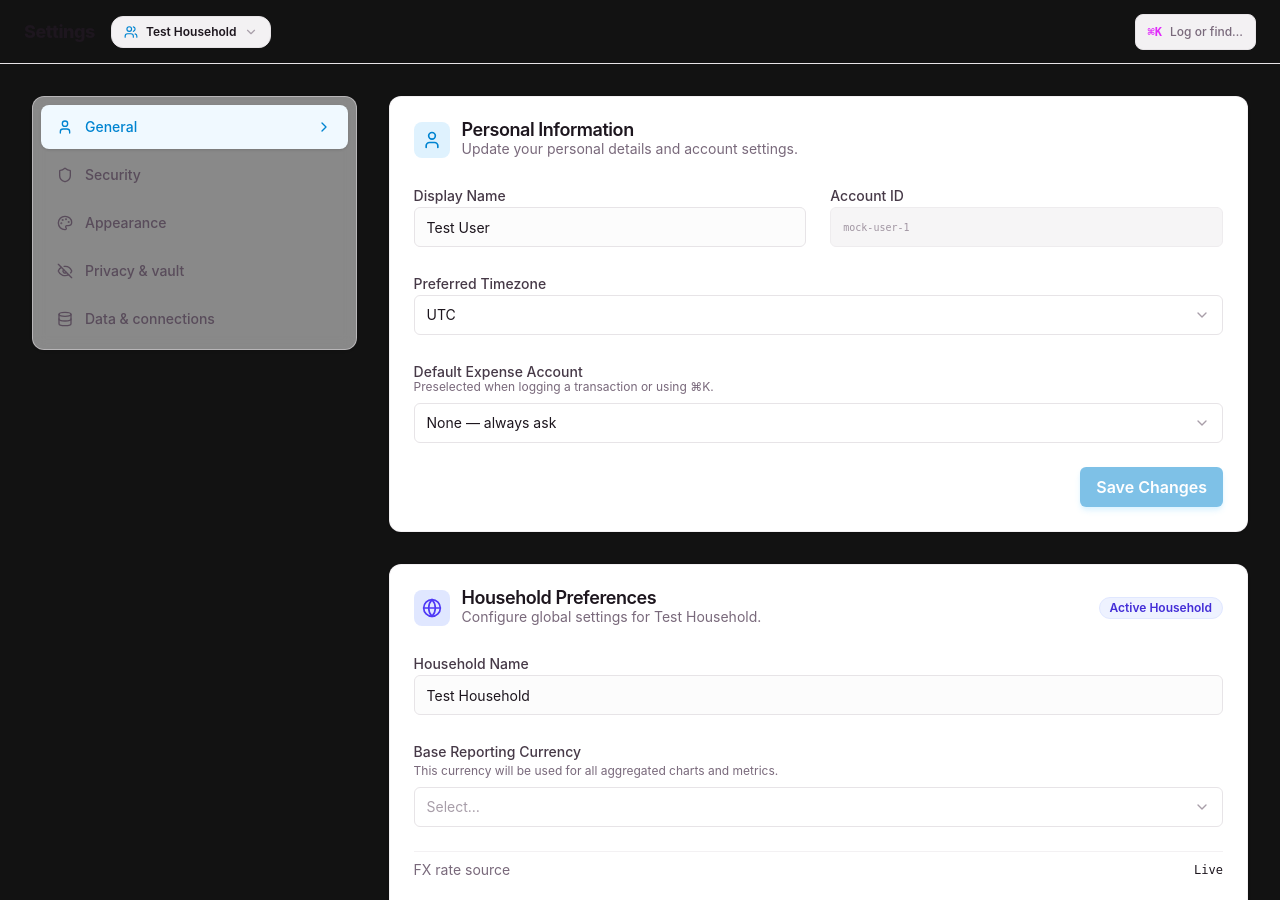
it: Settings Component Integration › shows the private vault section without a Face ID toggle
Click the button "Privacy & vault": [135, 270] box x1=41 y1=249 x2=348 y2=293
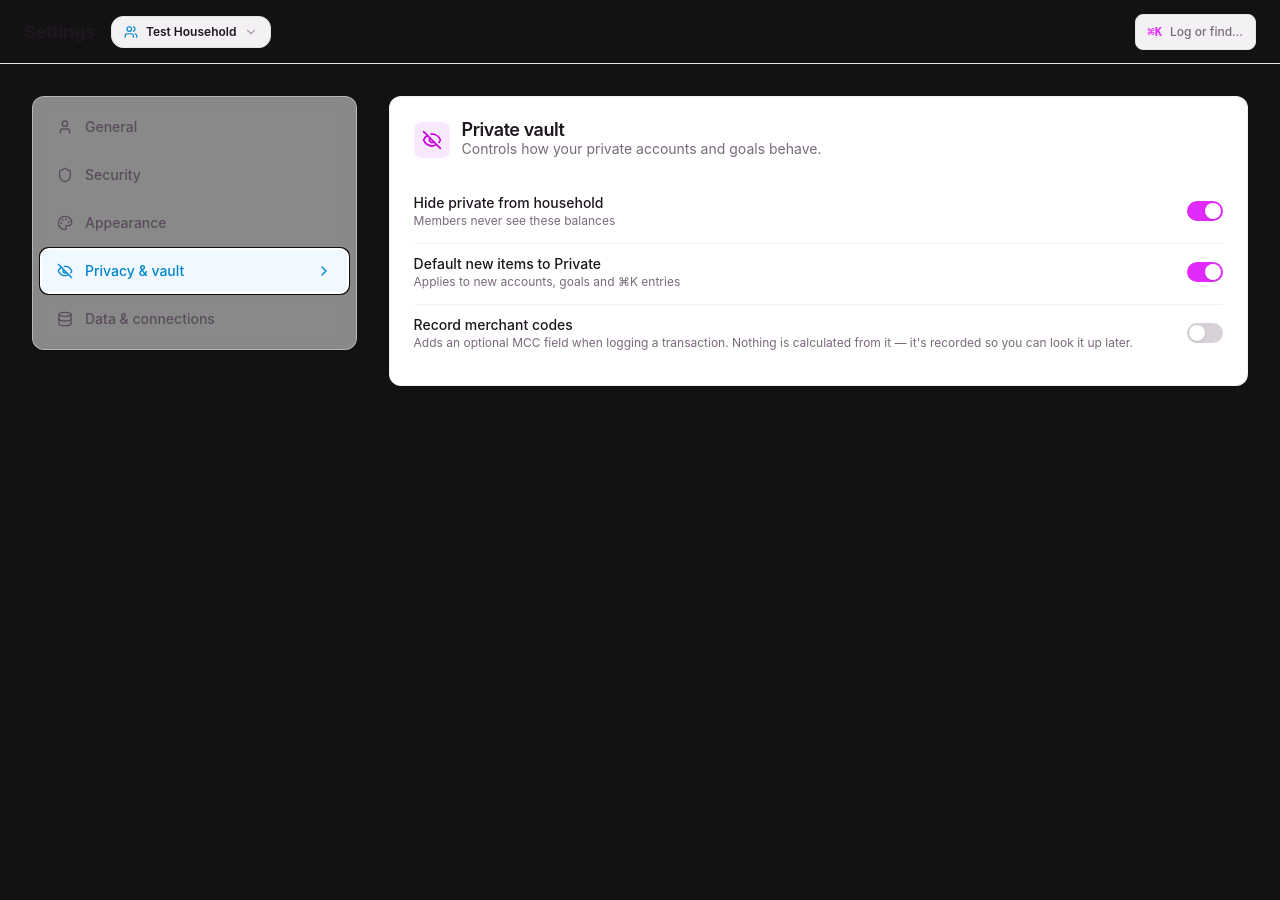
Now the text "Hide private from household" is shown, box x1=414 y1=193 x2=615 y2=213
Now the text "Default new items to Private" is shown, box x1=414 y1=255 x2=601 y2=272
